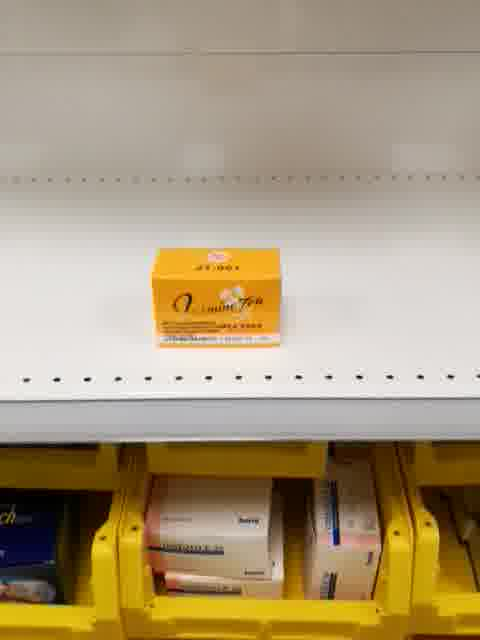jasminetea: (150, 243, 283, 352)
